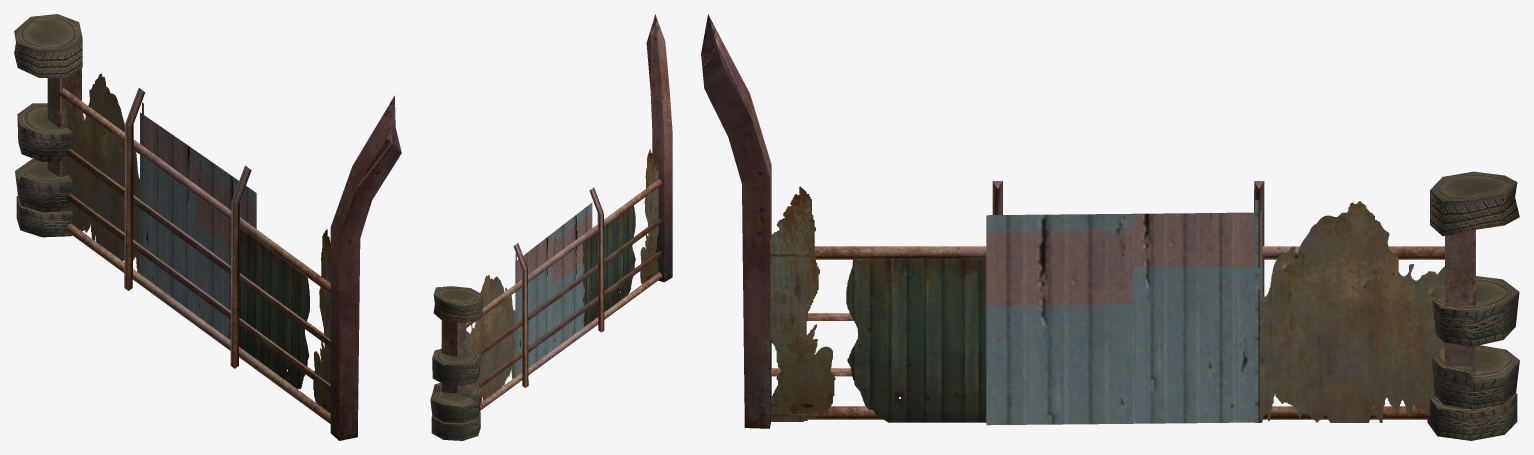
The model's file is Prop_Wj016a.glb.
3 views of the same model, side by side, from view 1: azimuth 30°, elevation 25°; view 2: azimuth 150°, elevation 25°; view 3: azimuth 270°, elevation 25° (orthographic). The views are drawn at different scales.
Parts seen in each view (by area): view 1: xiutz_wj016a_0; view 2: xiutz_wj016a_0; view 3: xiutz_wj016a_0.
Part boxes in pixels (left/top/right/bottom): xiutz_wj016a_0: left=14, top=14, right=401, bottom=440; xiutz_wj016a_0: left=430, top=14, right=672, bottom=440; xiutz_wj016a_0: left=701, top=14, right=1519, bottom=440.
Size of the model in its own units: 1.1 by 5.02 by 8.72.
Materials: 2 (2 with a texture image).
